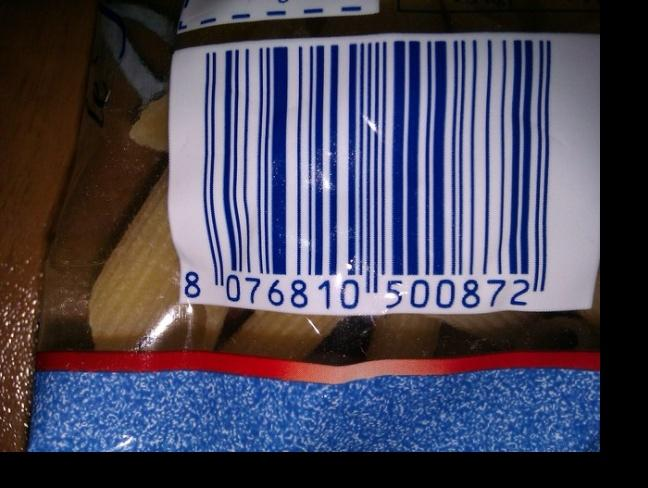Barcode: (167, 34, 594, 317)
